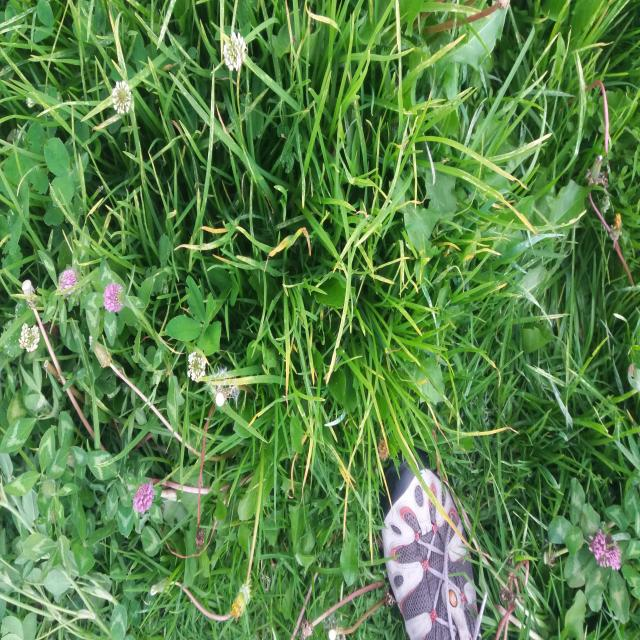Four Leaf Clover: (529, 326, 605, 420), (502, 426, 585, 492), (165, 276, 221, 356)
